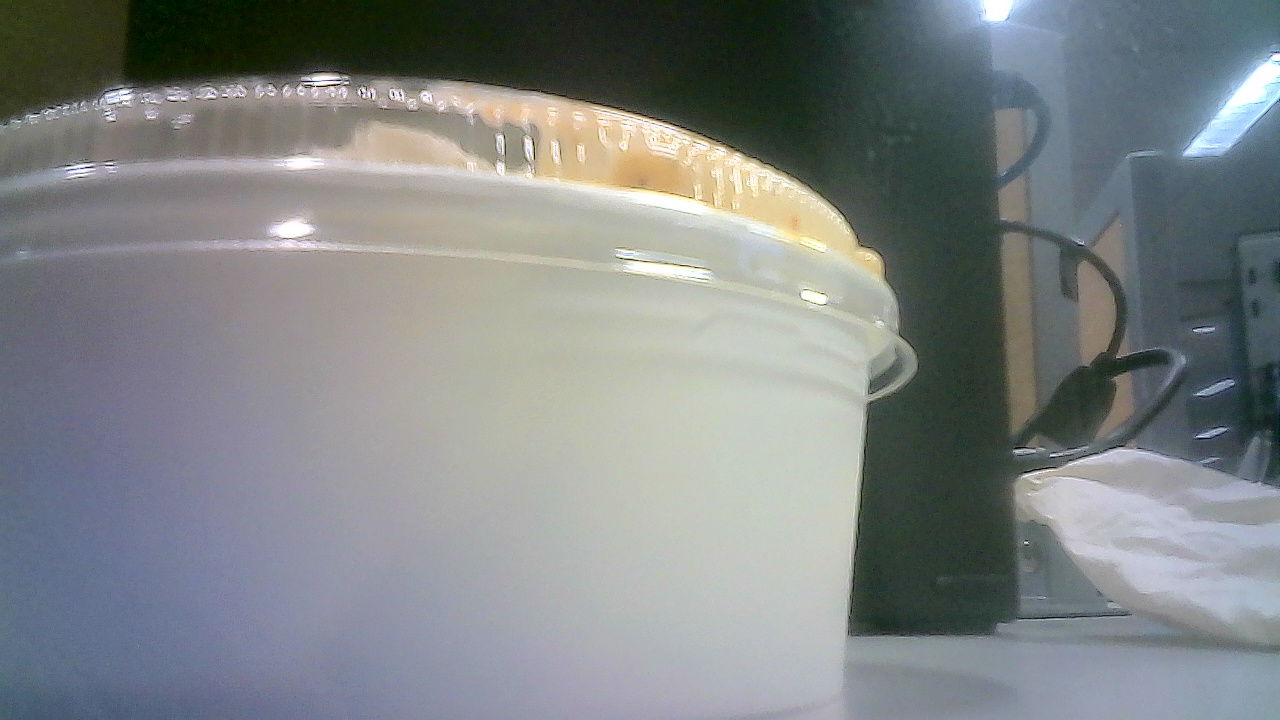Undefined_Waste: (10, 89, 913, 720)
